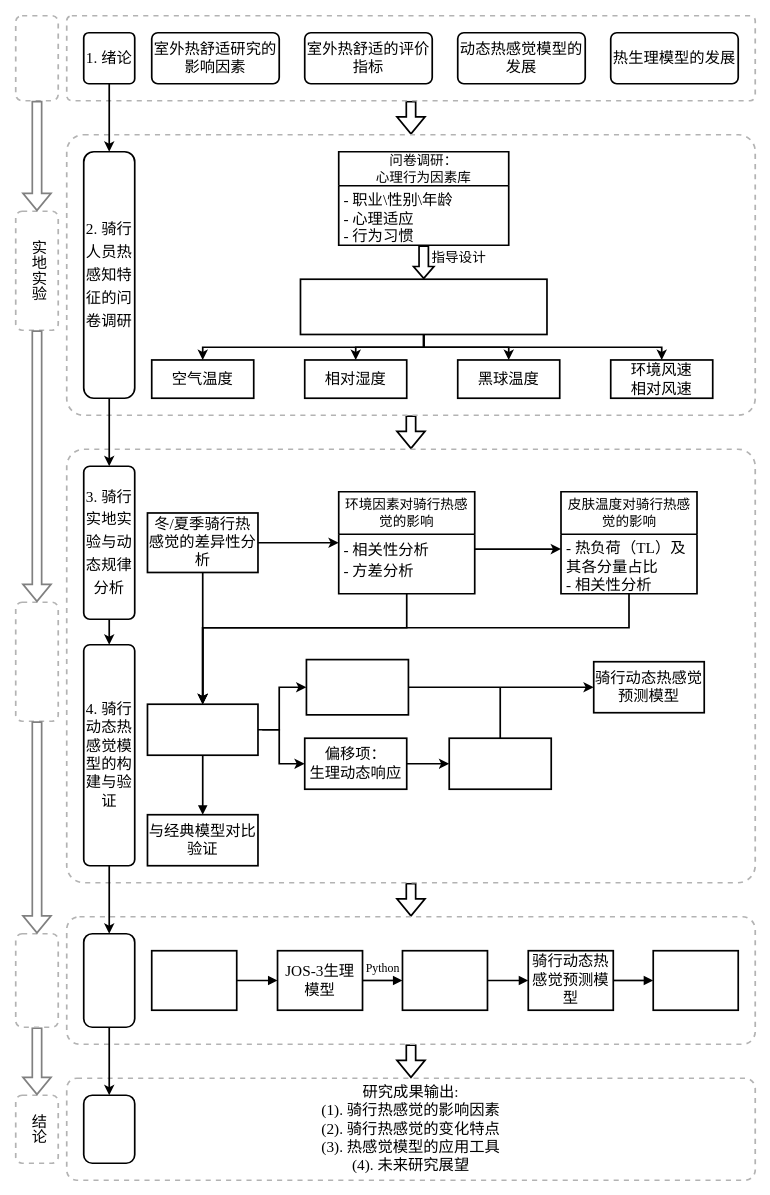
Some shapes in this 770 by 1195 pixel diagram are drawn without their labels. Each missing label, with the centre of its shape:
"5. 基于JOS-3生理模型的扩展应用" goes at (x=108, y=980).
"6. 结论与展望" goes at (x=108, y=1129).
"“基础项+偏移项”框架" goes at (x=202, y=729).
"分析和讨论" goes at (x=36, y=661).
"基础项： 综合热指标UTCI" goes at (x=357, y=686).
"实地实验： 冬/夏动态实测数据集 环境参数/生理参数/主观热感觉投票" goes at (x=423, y=306).
"文献调研" goes at (x=36, y=57).
"模型应用" goes at (x=36, y=980).
"环境参数 气象数据" goes at (x=193, y=980).
"皮肤温度模拟结果" goes at (x=444, y=980).
"相关性分析筛选变量" goes at (x=500, y=763).
"纯环境参数驱动下的预测效果验证" goes at (x=695, y=980).
